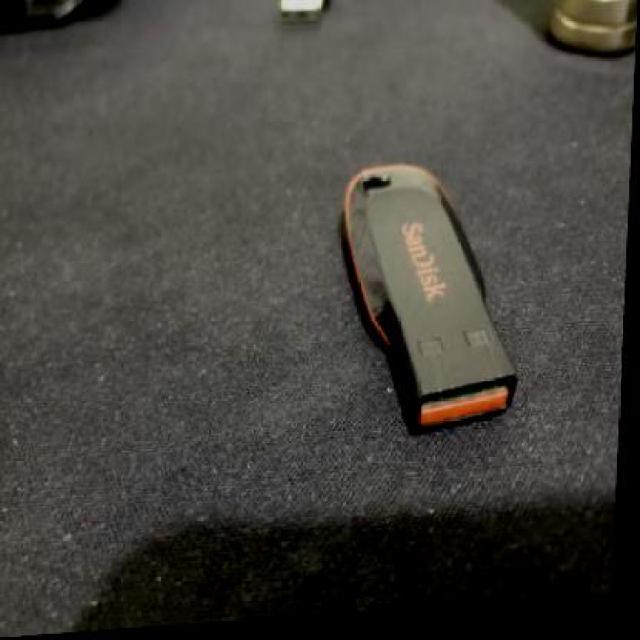Flashdisk: (321, 143, 541, 460)
